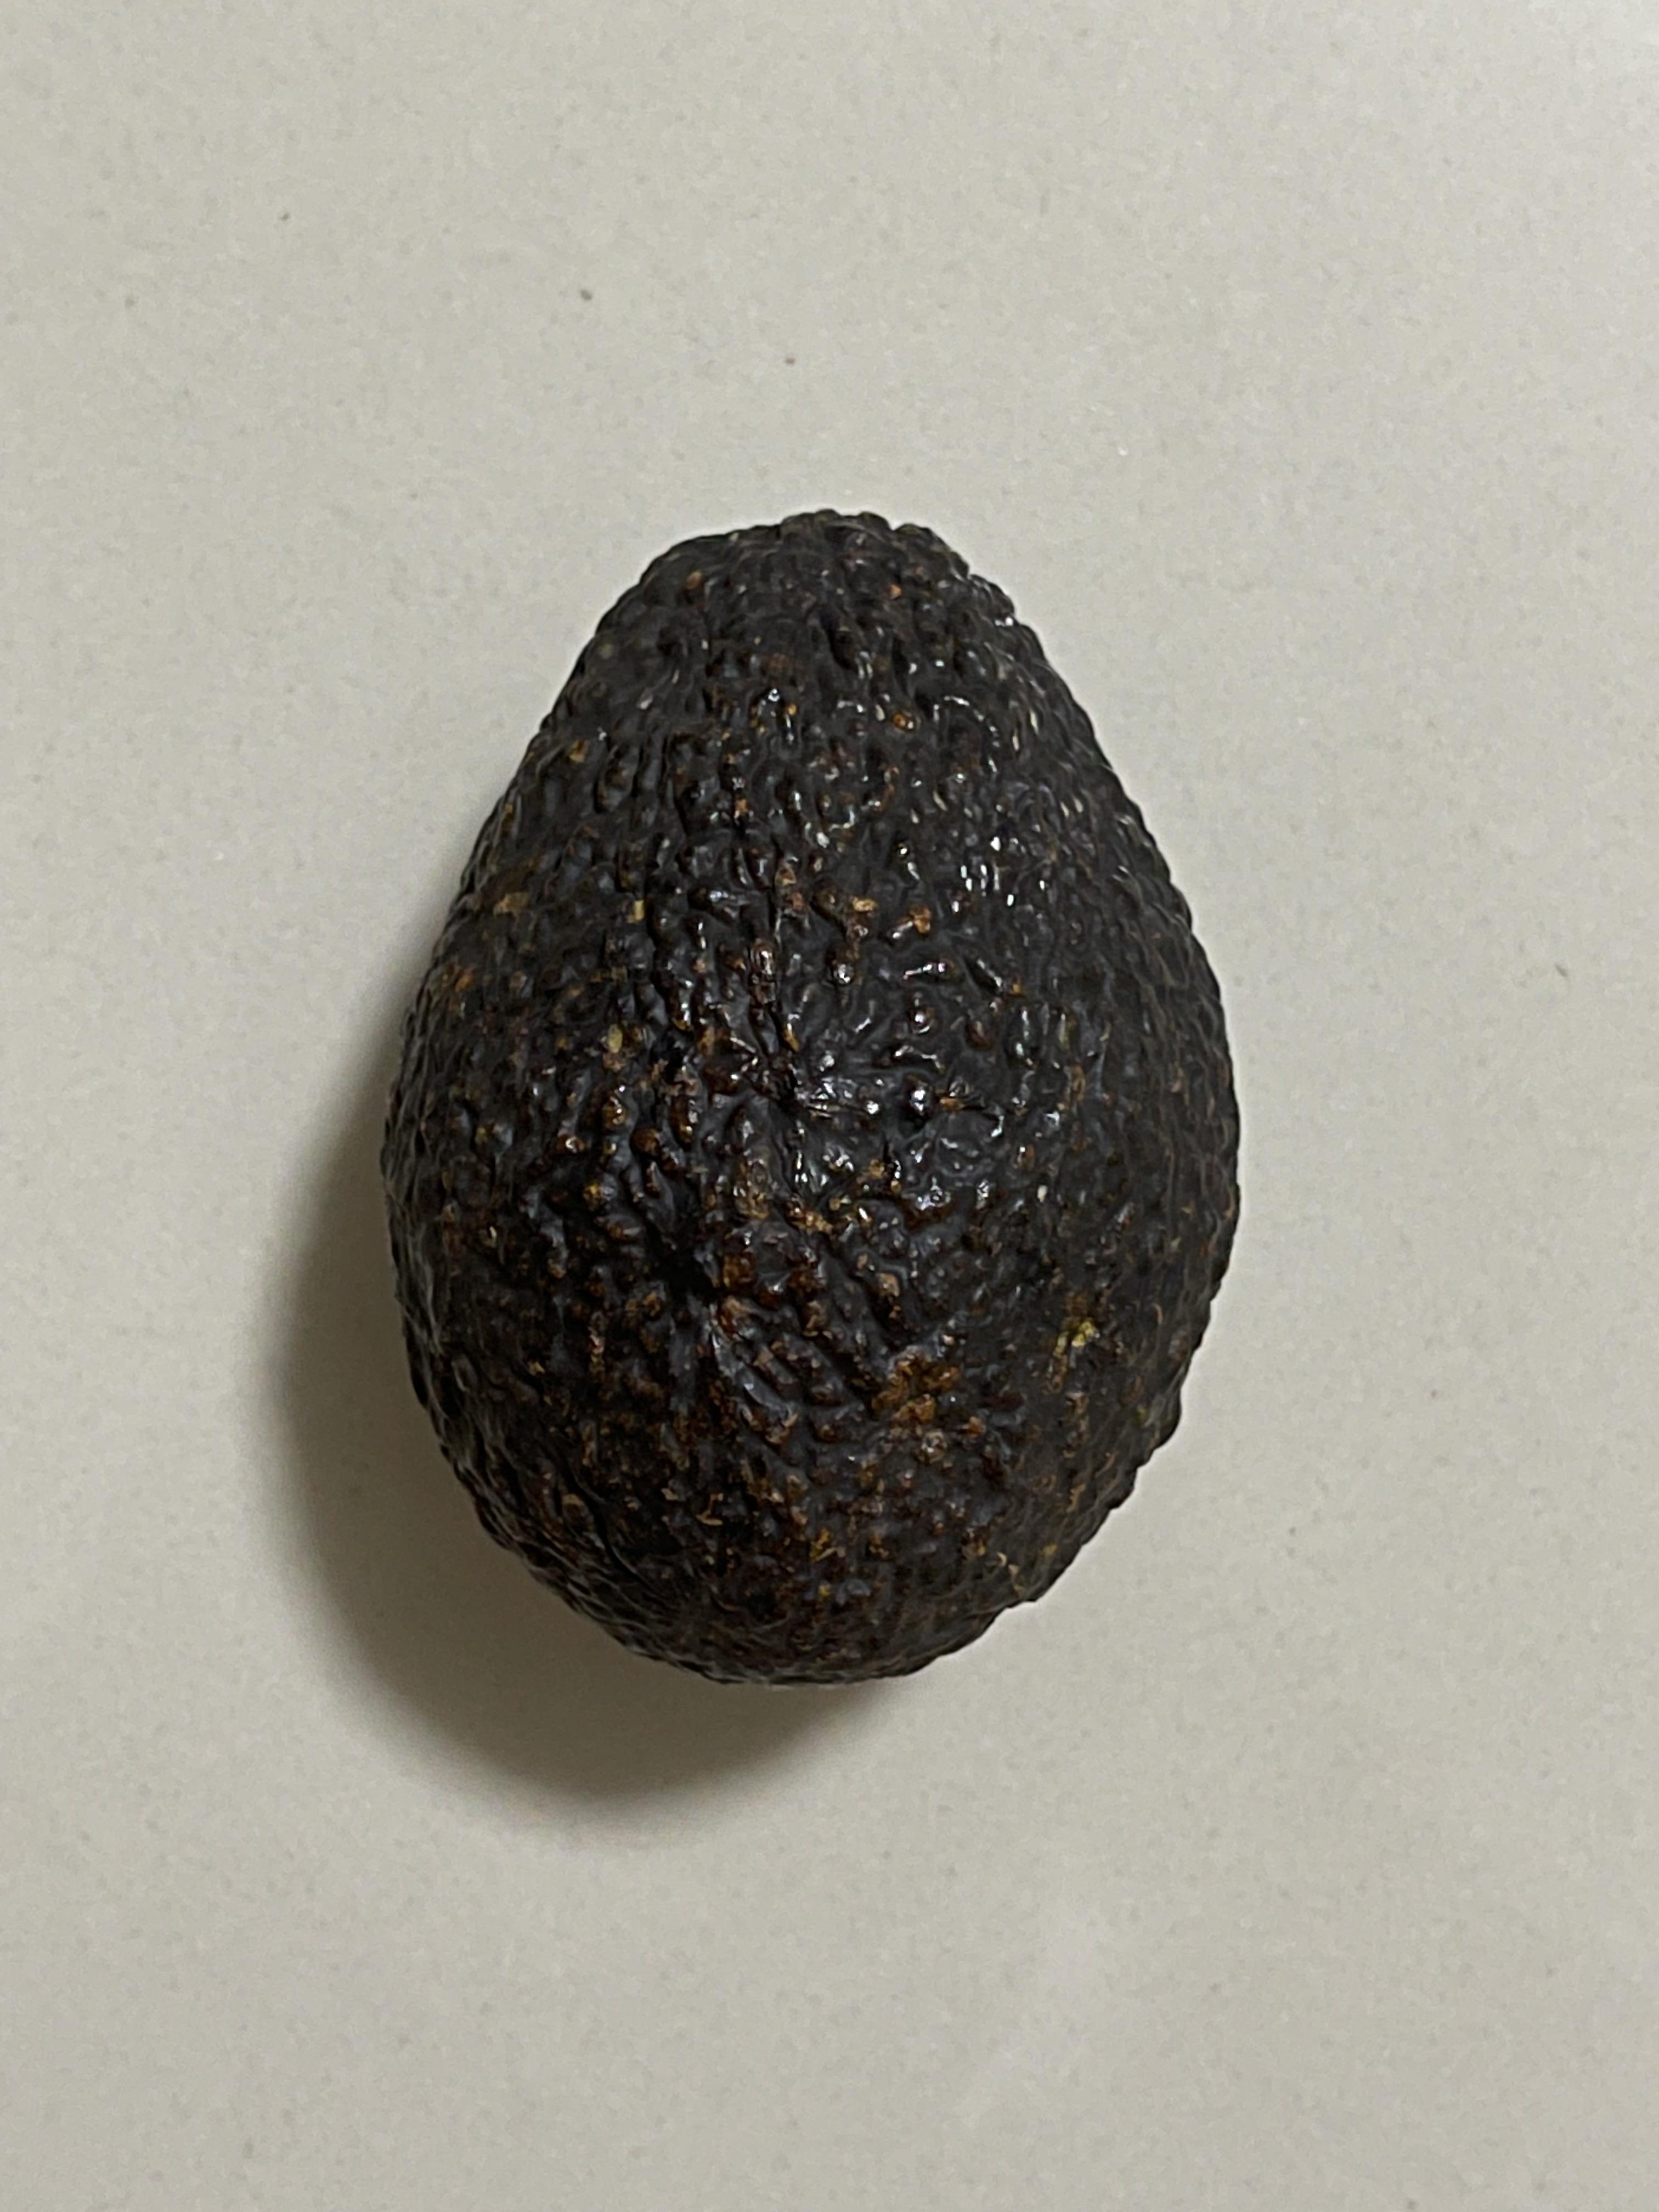Level2: (362, 477, 1263, 1709)
